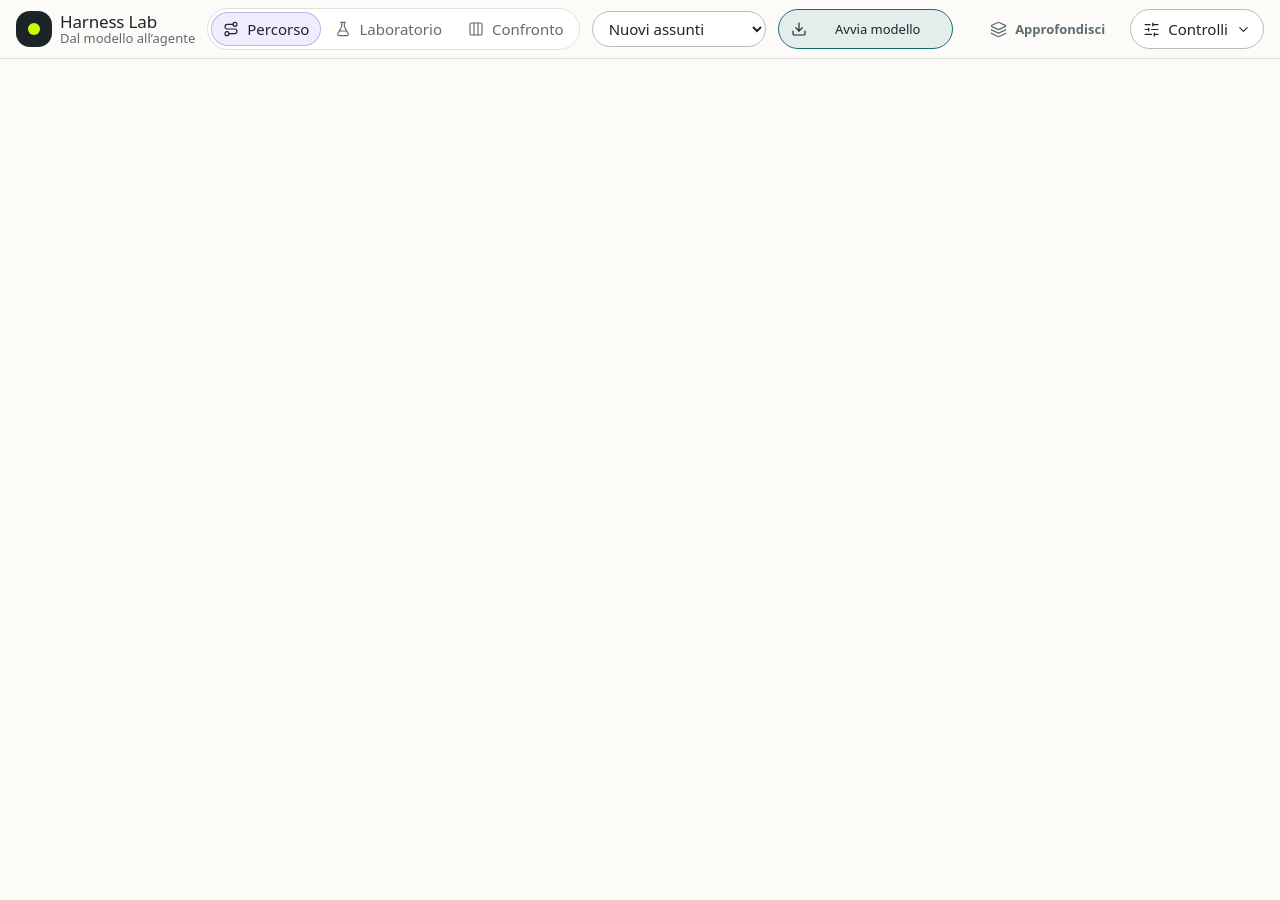
Test: TopBar › keeps the three modes available and dismisses controls on an outside click
Check: the radio button labelled "Percorso" is shown, box [211,12,322,46]
Check: the radio button labelled "Laboratorio" is shown, box [323,12,454,46]
Click the heading "Controlli".
click(1197, 29)  # box [1130,9,1264,49]
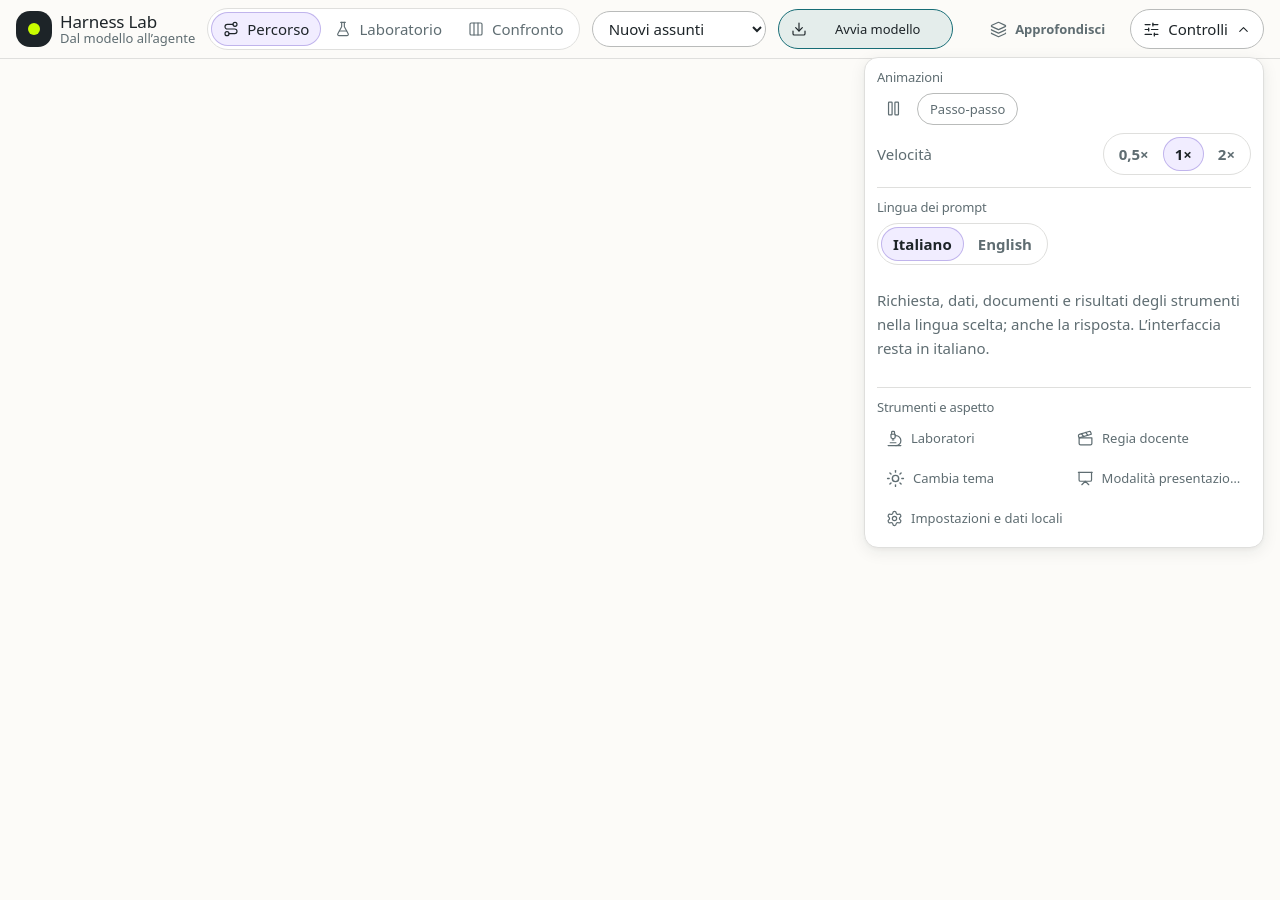
Check: the heading "Controlli" is expanded, box [1130,9,1264,49]
Press the mouse on the element that starts with "Harness Lab" at (640, 450), box [0,0,1279,899]
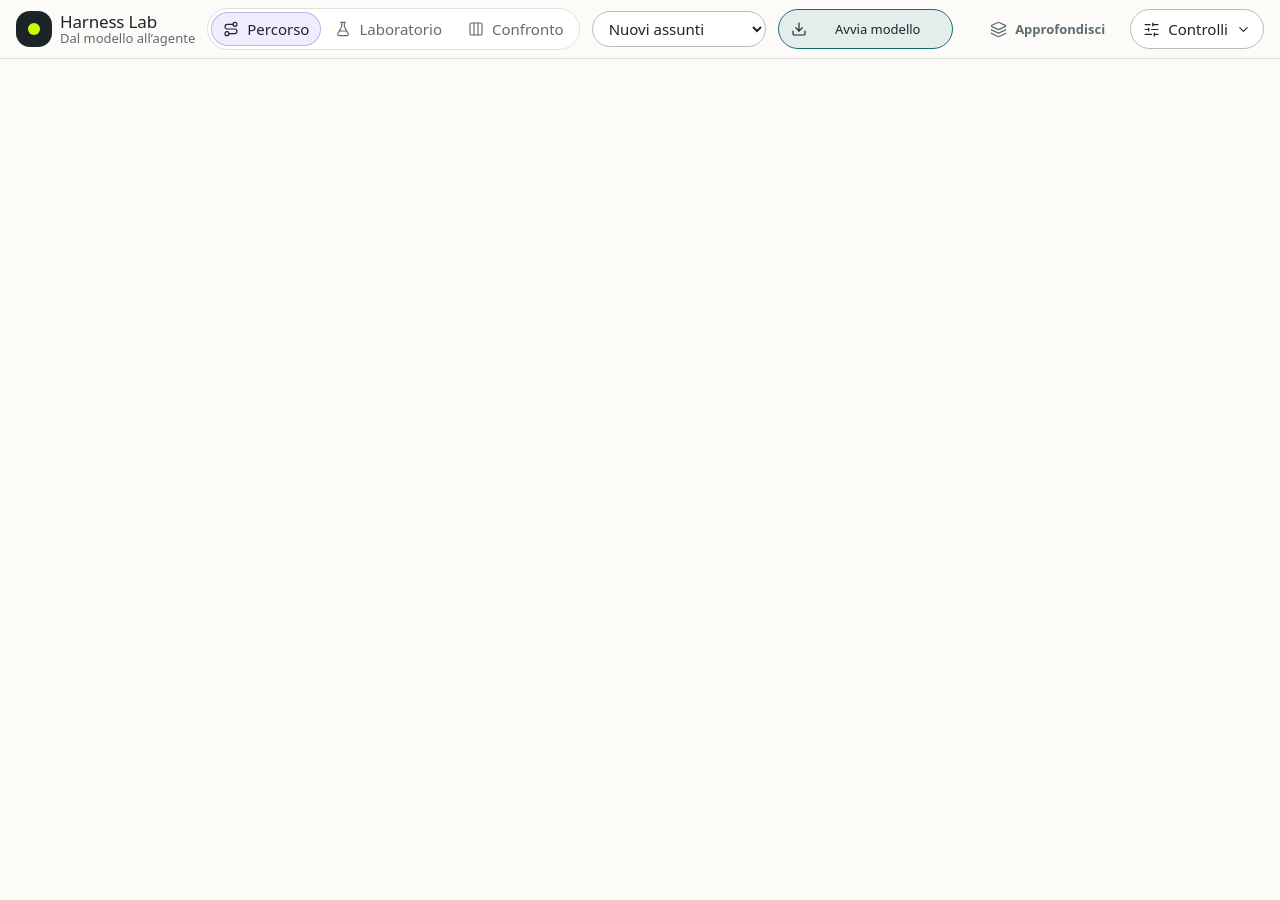
Check: the heading "Controlli" is collapsed, box [1130,9,1264,49]
